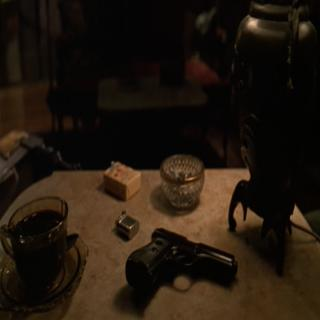gun: (123, 219, 240, 293)
